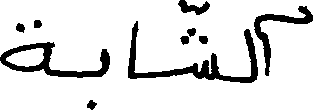ا: (264, 4, 312, 76), (126, 20, 135, 79)
ب: (79, 47, 109, 109)
ة: (0, 17, 49, 76)
ش: (176, 22, 217, 80)
ل: (243, 14, 256, 83)
